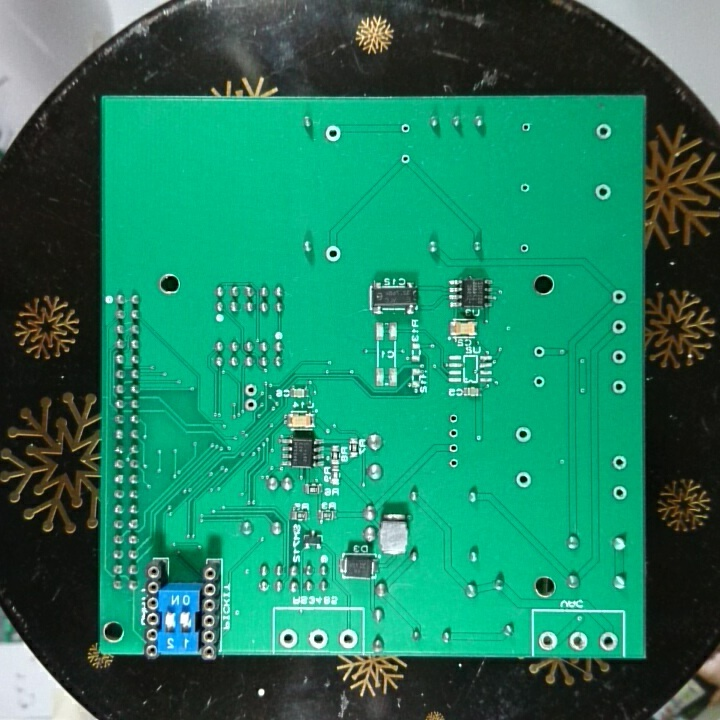F: (595, 629, 621, 654), (305, 627, 331, 650), (337, 626, 359, 652), (537, 627, 559, 652), (567, 629, 590, 652), (277, 627, 300, 649), (322, 122, 343, 145), (323, 243, 344, 266), (513, 469, 534, 492), (592, 180, 613, 203), (592, 120, 613, 143), (610, 482, 631, 504), (609, 452, 630, 473), (610, 286, 629, 309), (512, 425, 536, 443), (609, 377, 629, 398), (608, 317, 629, 336), (610, 346, 628, 368), (399, 150, 417, 169), (242, 380, 262, 397), (242, 396, 260, 414), (531, 373, 547, 392), (518, 178, 534, 195), (531, 343, 547, 360), (516, 241, 533, 256), (520, 118, 534, 136), (399, 120, 413, 137), (445, 412, 462, 426), (445, 455, 462, 469), (447, 426, 461, 440), (447, 440, 459, 455)
